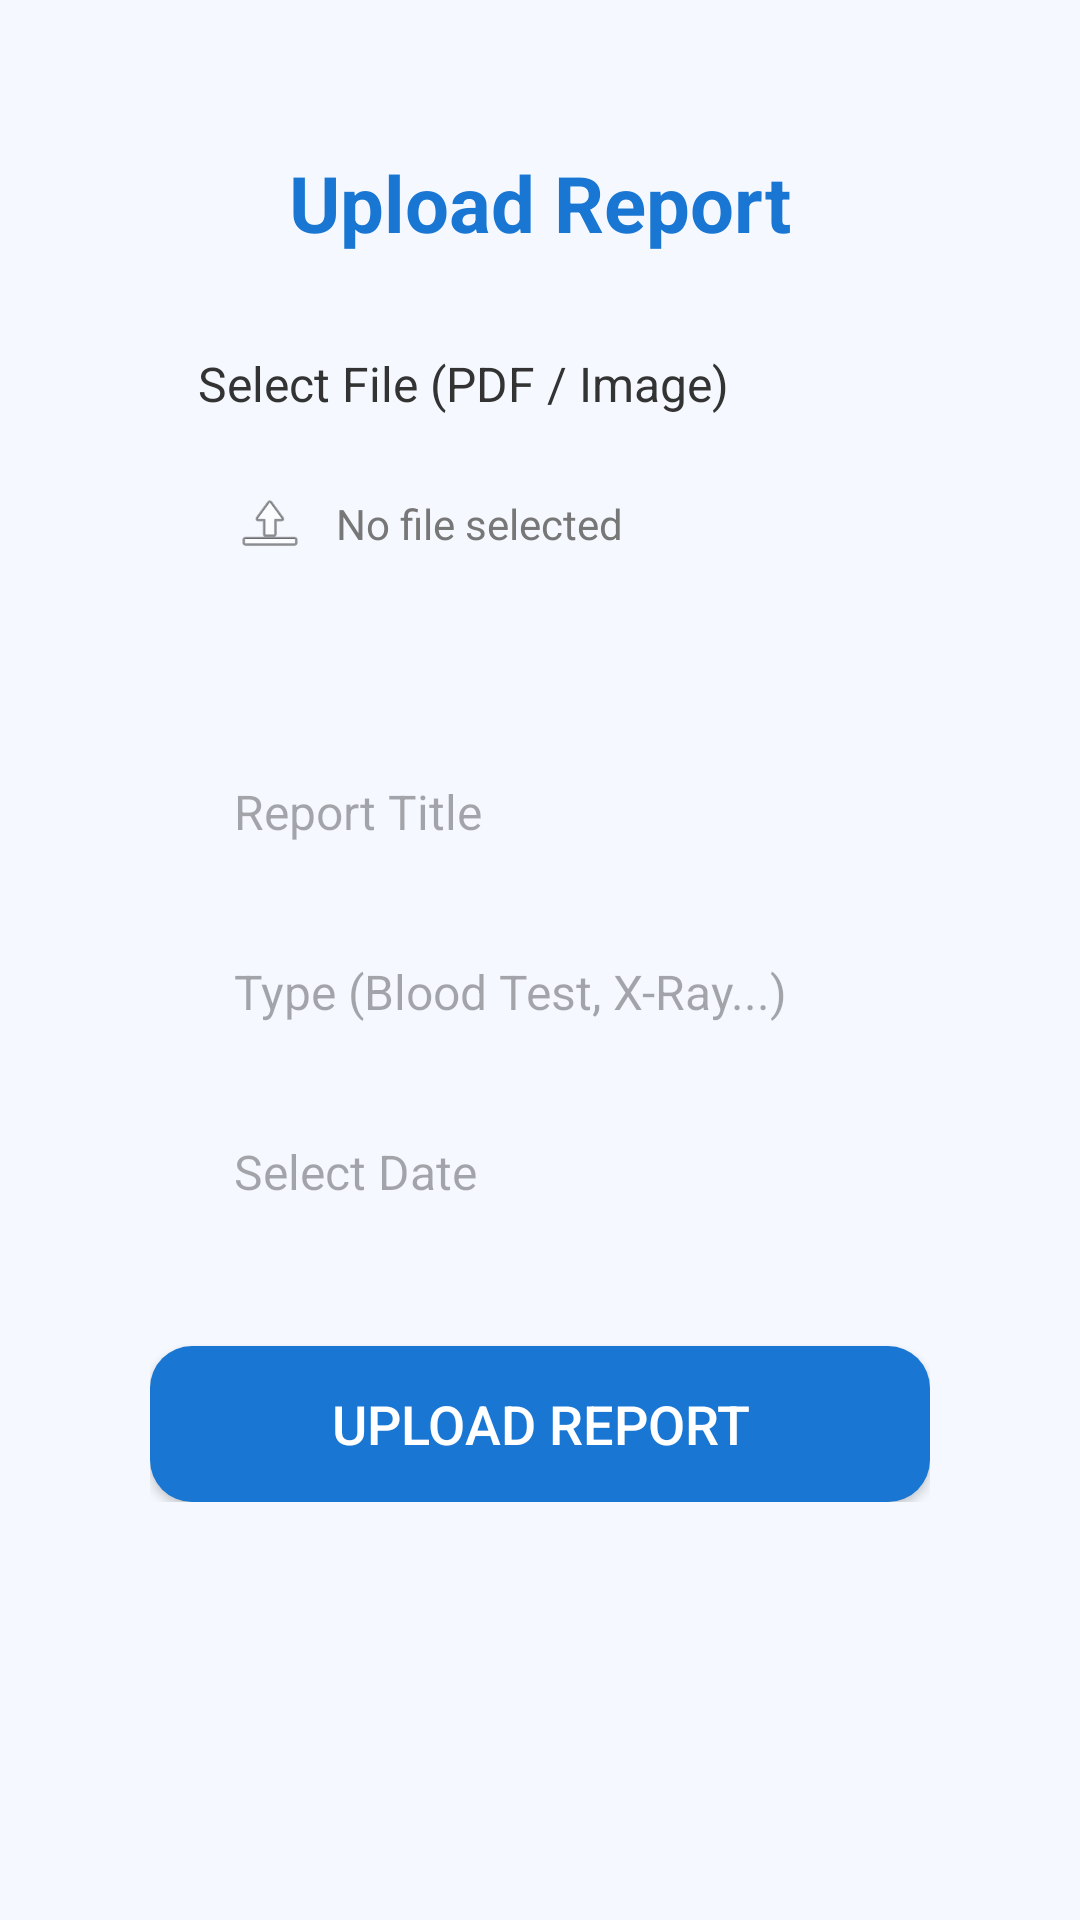

Named icons in this screenshot (1080px x 1920px) and their bounding boxes, bbox(x1, y1, x2, y2):
upload: bbox(242, 500, 298, 546)
